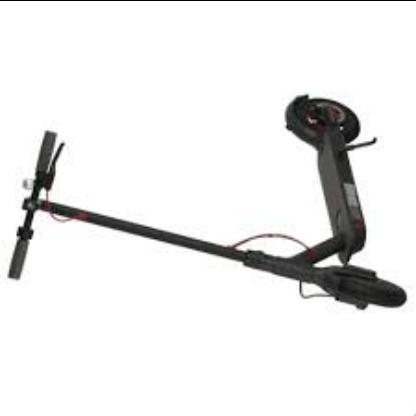bike: (12, 93, 408, 313)
